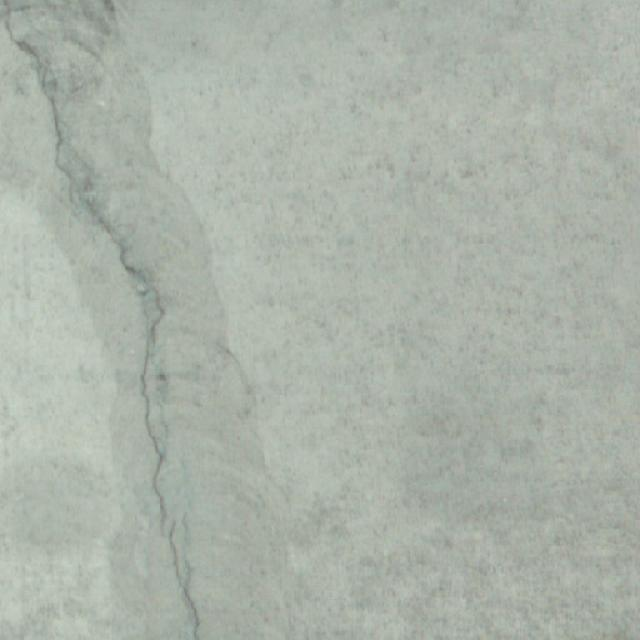Network: (0, 0, 236, 640)
Rippled: (253, 11, 640, 640)
